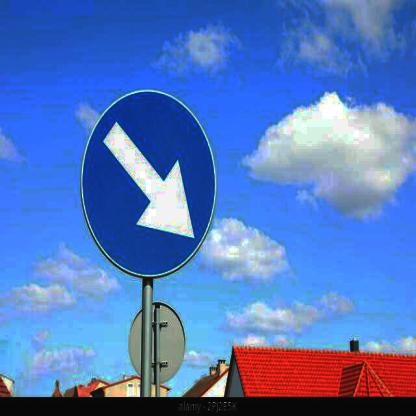Keep right: (80, 85, 223, 281)
